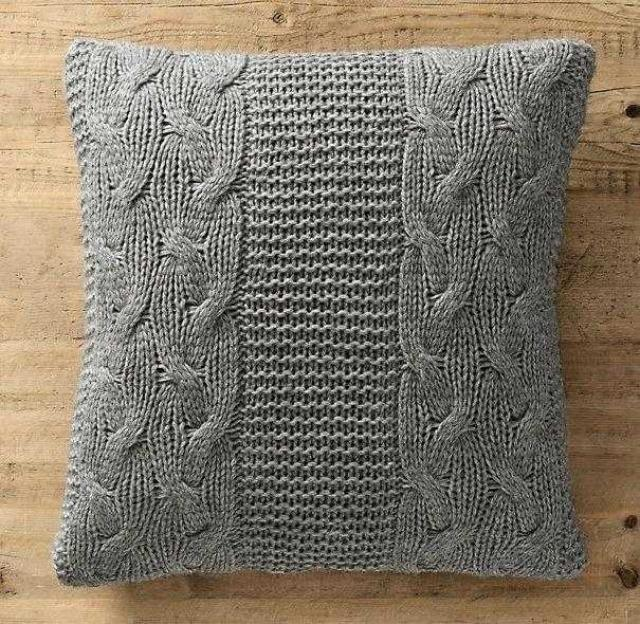pillow: (51, 34, 596, 586)
